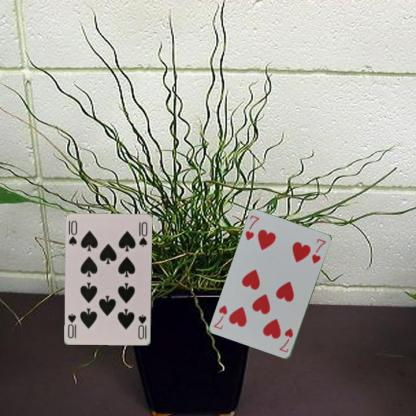10s: (66, 218, 78, 248), (136, 312, 148, 340)
7h: (276, 326, 295, 354), (242, 213, 260, 242)
